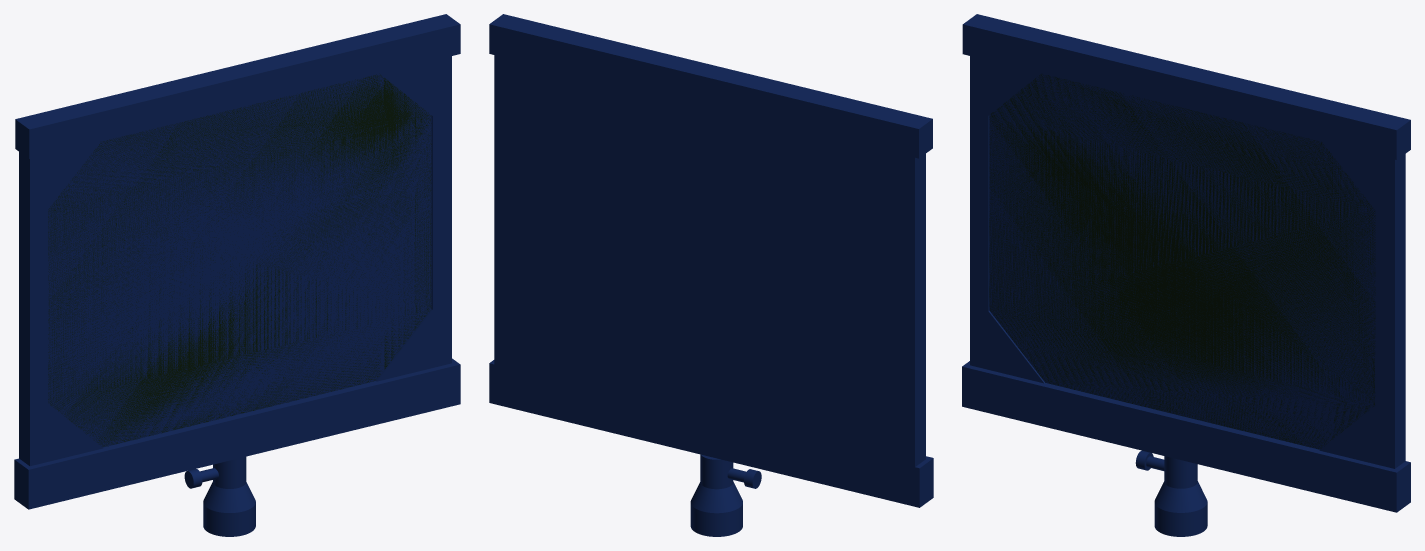
The model's file is Mesh_GreenGym_Base_HP.FBX.
The picture shows the model from 3 angles, left to right: view 1: azimuth 30°, elevation 25°; view 2: azimuth 150°, elevation 25°; view 3: azimuth 330°, elevation 25°; orthographic projection.
Visible parts, largest first — view 1: Mesh_GreenGym_Base_HP; view 2: Mesh_GreenGym_Base_HP; view 3: Mesh_GreenGym_Base_HP.
Boxes of the visible parts, box(x1,y1,x2,y2) form: Mesh_GreenGym_Base_HP: box(14, 14, 460, 536); Mesh_GreenGym_Base_HP: box(489, 14, 933, 536); Mesh_GreenGym_Base_HP: box(962, 14, 1410, 536).
Size of what is drawn, in the model's own units: 180 by 18.98 by 180.
